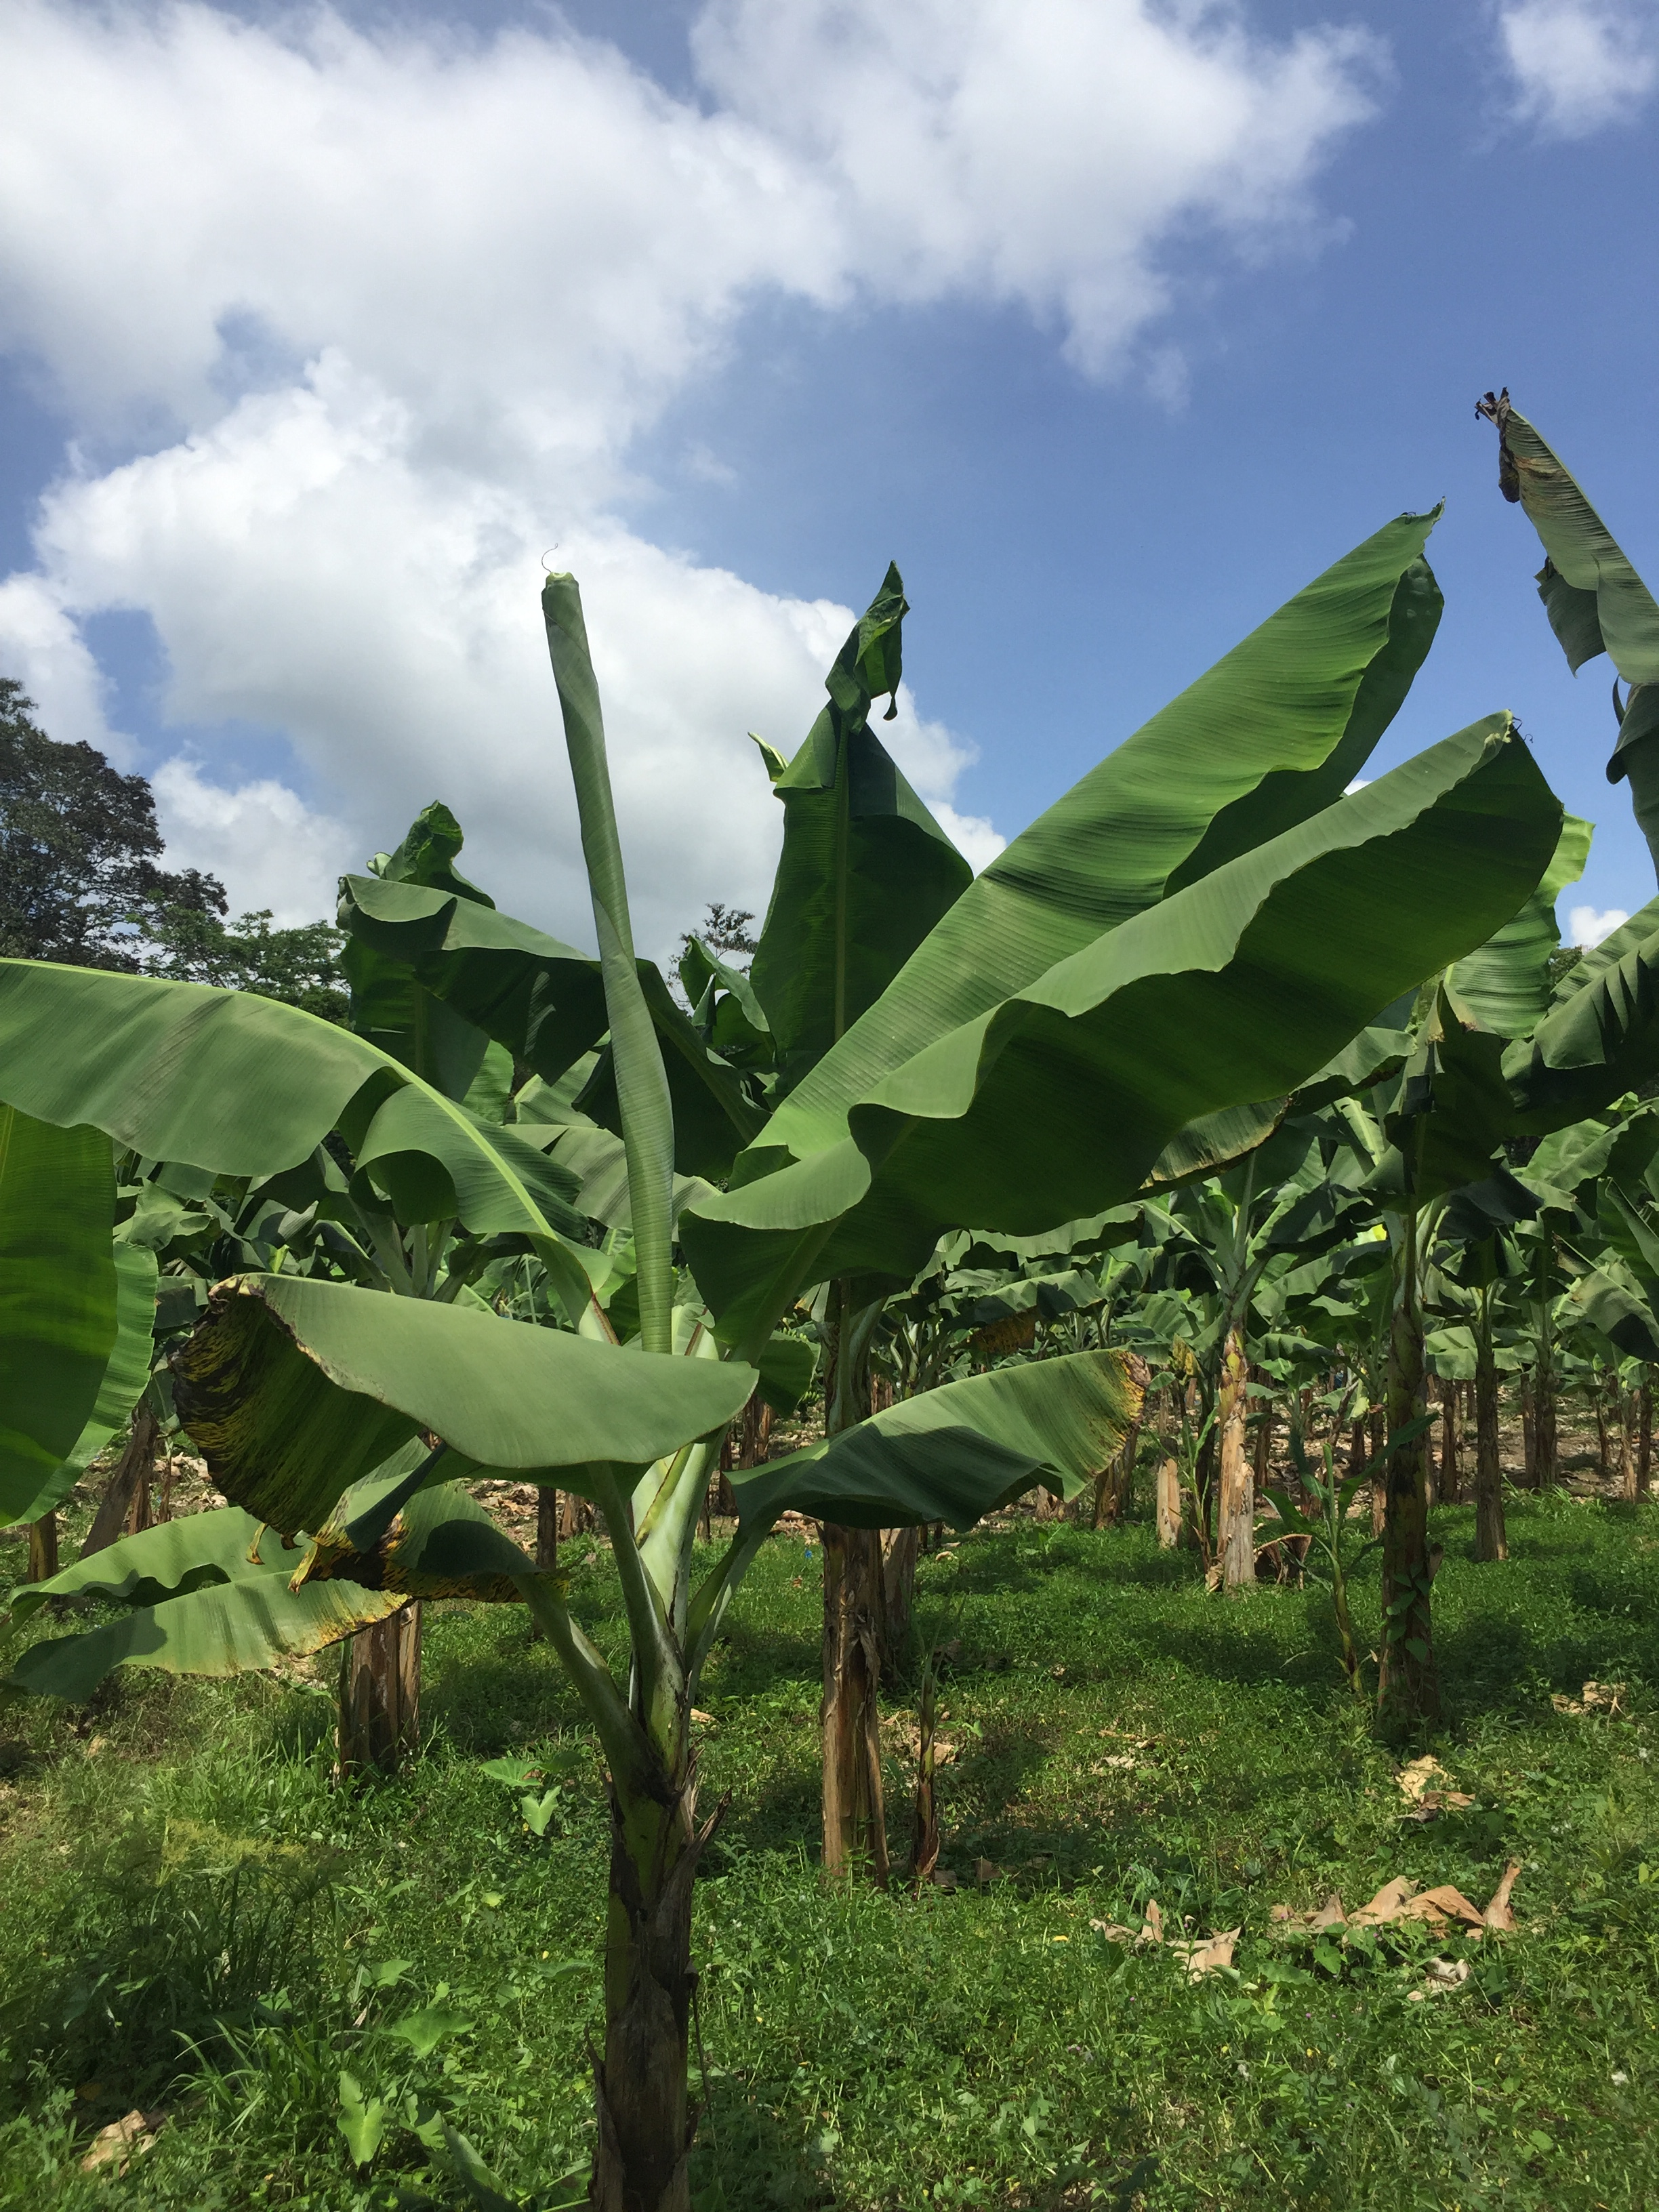candleleafs: (538, 547, 676, 1348)
